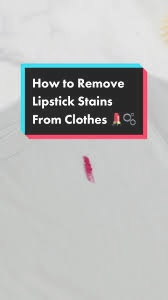lipstick: (78, 149, 98, 183)
